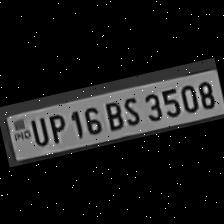0: (176, 80, 199, 113)
1: (64, 105, 86, 140)
3: (139, 88, 164, 122)
5: (156, 84, 182, 118)
6: (77, 102, 103, 136)
8: (192, 76, 218, 110)
B: (100, 96, 126, 132)
P: (43, 110, 69, 144)
S: (118, 91, 143, 126)
U: (24, 114, 50, 148)
